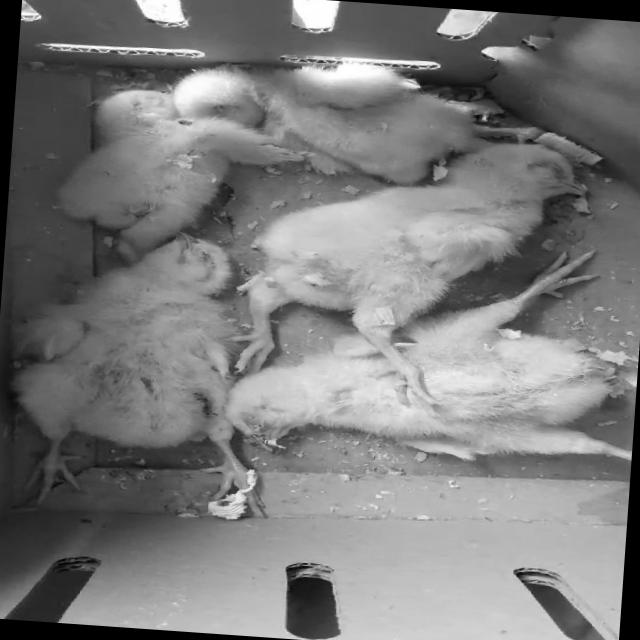dead: (180, 106, 602, 412), (187, 240, 640, 489), (0, 229, 259, 502), (52, 68, 234, 256)
